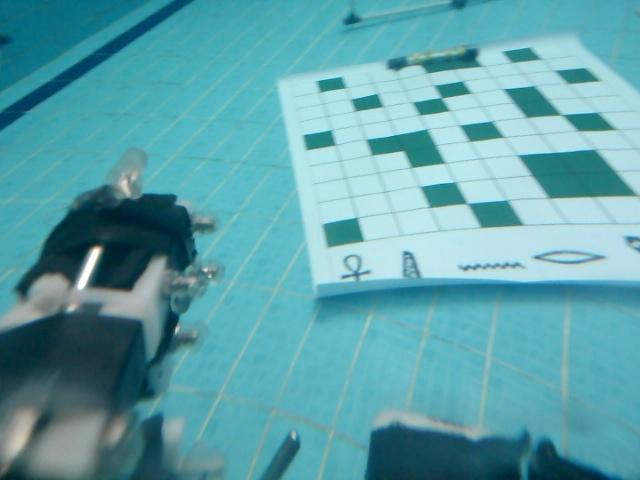Ankh: (339, 249, 367, 288)
Mouth: (531, 250, 609, 269)
Reed: (398, 248, 426, 288)
Water: (456, 258, 524, 276)
